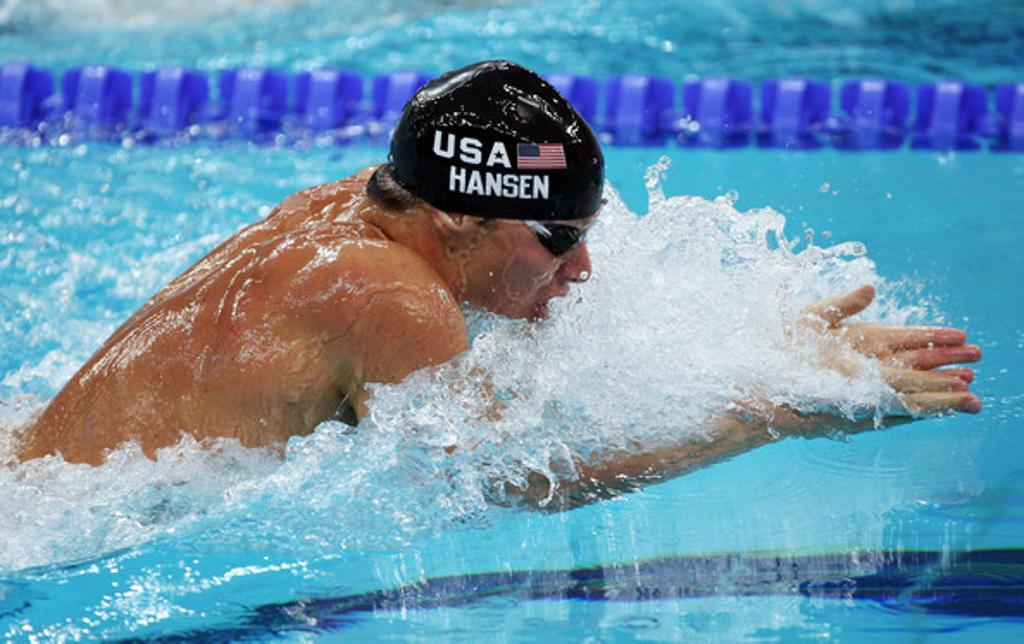face: (470, 182, 598, 330)
